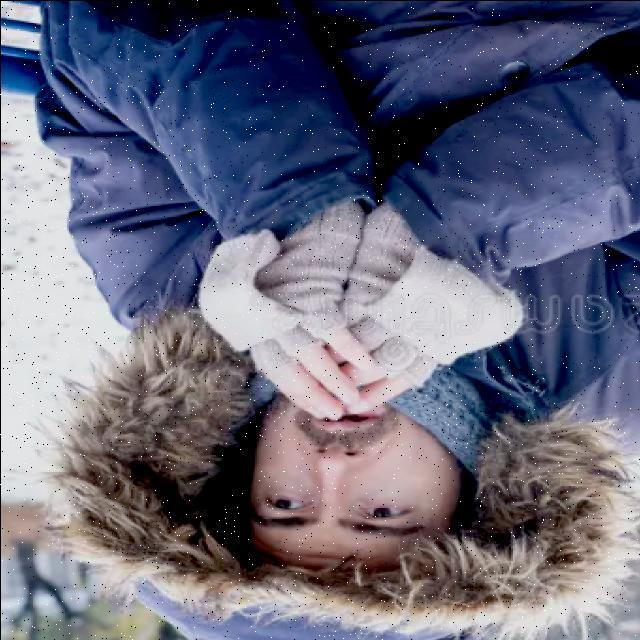face_no_mask: (252, 378, 463, 579)
